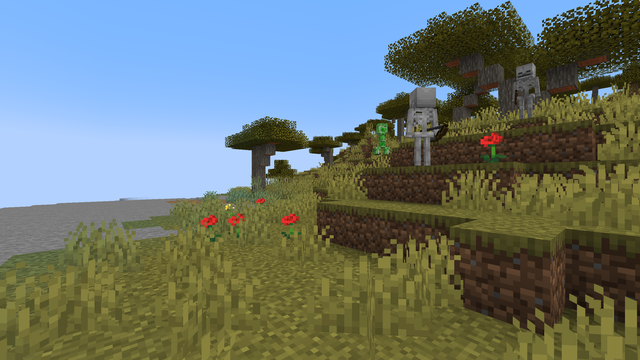creepers: (373, 121, 388, 154)
squelettes: (405, 85, 437, 166), (514, 62, 537, 120)
